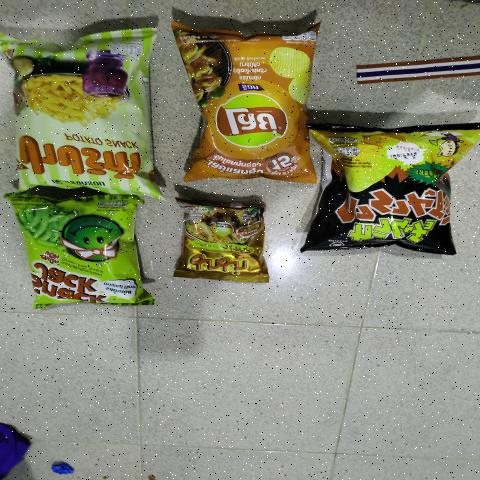karamujo: (321, 134, 461, 246)
mama: (185, 214, 261, 274)
paprika: (21, 34, 142, 186)
snack_jack: (34, 200, 130, 304)
